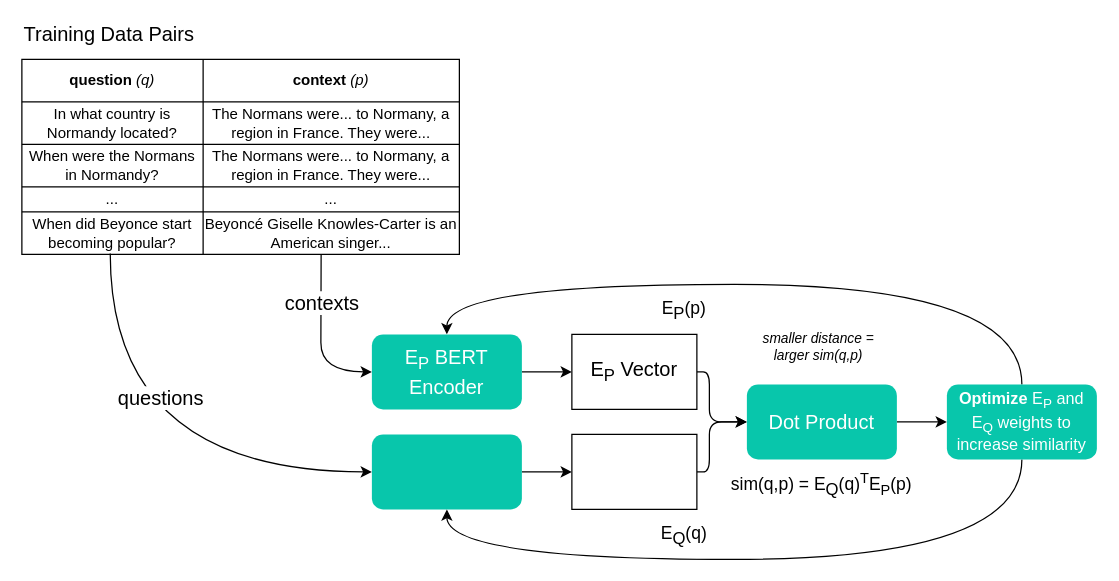
Some shapes in this 1119 by 581 pixel diagram are drawn without their labels. Here are the shapes that lost their labels. From the top down, the centre of each, then its label:
the point at 446,471: E Q BERT Encoder
the point at 634,471: E Q Vector
